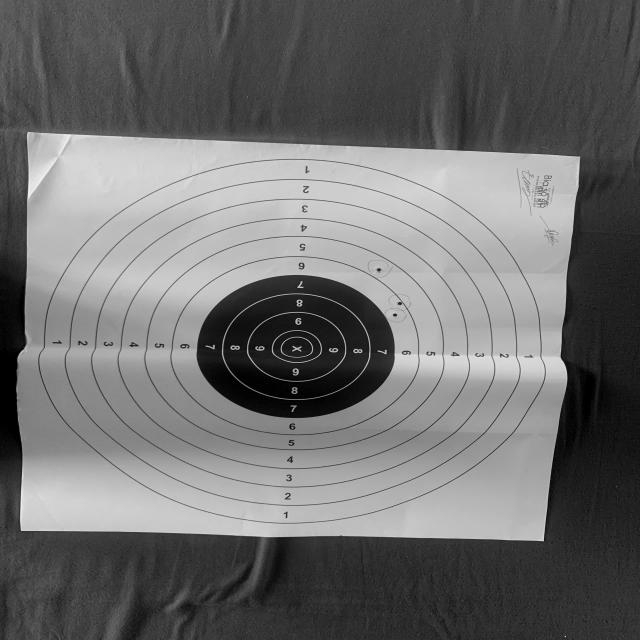bullet: (396, 300, 403, 306), (376, 267, 383, 272), (393, 313, 397, 318)
target: (17, 133, 579, 540)
